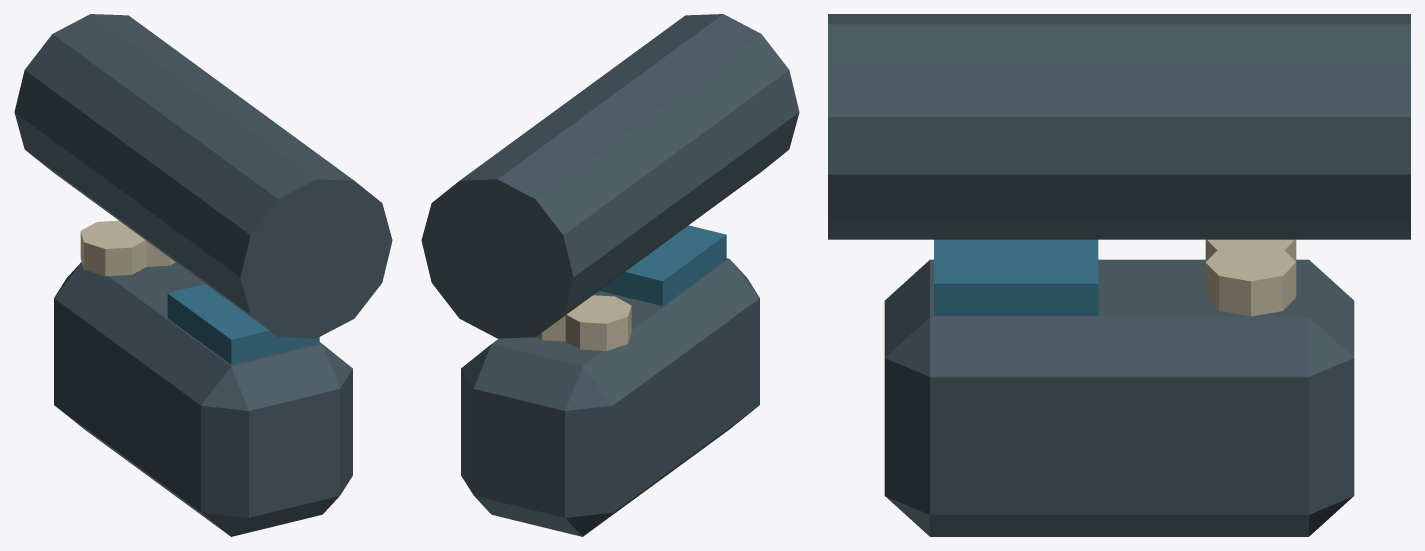
The model's file is set_flashlight.glb.
3 views of the same model, side by side, from view 1: azimuth 30°, elevation 25°; view 2: azimuth 150°, elevation 25°; view 3: azimuth 270°, elevation 25° (orthographic). The views are drawn at different scales.
Visible parts, largest first — view 1: set_flashlight; view 2: set_flashlight; view 3: set_flashlight.
Part boxes in pixels (x1,y1,x2,y2): set_flashlight: (14, 14, 392, 536); set_flashlight: (421, 14, 799, 536); set_flashlight: (828, 14, 1410, 536).
Bounding box in the file's own units: 0.07 × 0.165 × 0.18.
